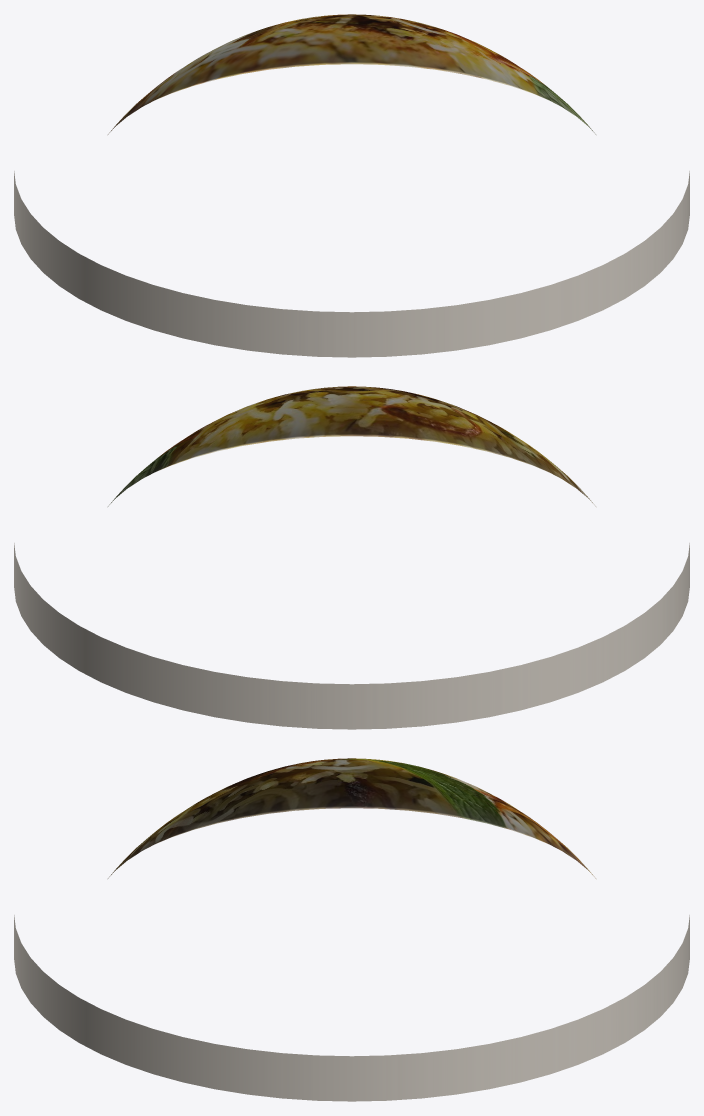
Rendered from chicken-biryani.glb.
The picture shows the model from 3 angles, top to bottom: view 1: azimuth 30°, elevation 25°; view 2: azimuth 150°, elevation 25°; view 3: azimuth 270°, elevation 25°; orthographic projection.
Visible parts, largest first — view 1: chicken-biryani; view 2: chicken-biryani; view 3: chicken-biryani.
Part boxes in pixels (bbox=[...]): chicken-biryani: bbox=[14, 14, 689, 357]; chicken-biryani: bbox=[14, 386, 689, 729]; chicken-biryani: bbox=[14, 758, 689, 1101].
Bounding box in the file's own units: 0.27 × 0.0772 × 0.27.
1 material, 1 textured.
